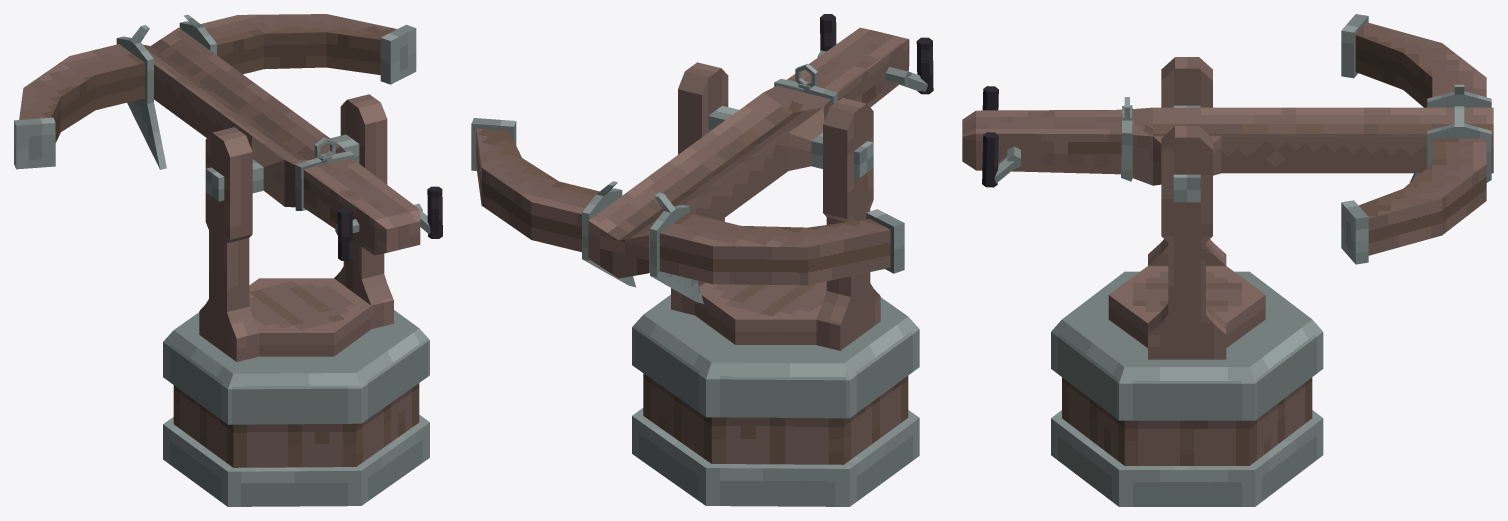
The model's file is Crossbow.fbx.
3 renders of one model, left to right at view 1: azimuth 30°, elevation 25°; view 2: azimuth 150°, elevation 25°; view 3: azimuth 270°, elevation 25°, orthographic. The views are drawn at different scales.
Visible parts, largest first — view 1: Base, Barrel, Spoke, Bow; view 2: Base, Barrel, Bow, Spoke; view 3: Base, Barrel, Spoke, Bow.
Boxes of the visible parts, box(x1,y1,x2,y2) form: Base: box(163, 310, 429, 506); Barrel: box(143, 27, 442, 260); Spoke: box(199, 94, 393, 361); Bow: box(14, 14, 416, 169); Base: box(632, 294, 919, 506); Barrel: box(588, 14, 933, 278); Bow: box(471, 118, 904, 303); Spoke: box(671, 62, 880, 350); Base: box(1051, 271, 1323, 506); Barrel: box(962, 86, 1493, 202); Spoke: box(1108, 57, 1265, 359); Bow: box(1341, 14, 1491, 264).
Size of the model in its own units: 223 by 182 by 244.
4 materials, 4 textured.
